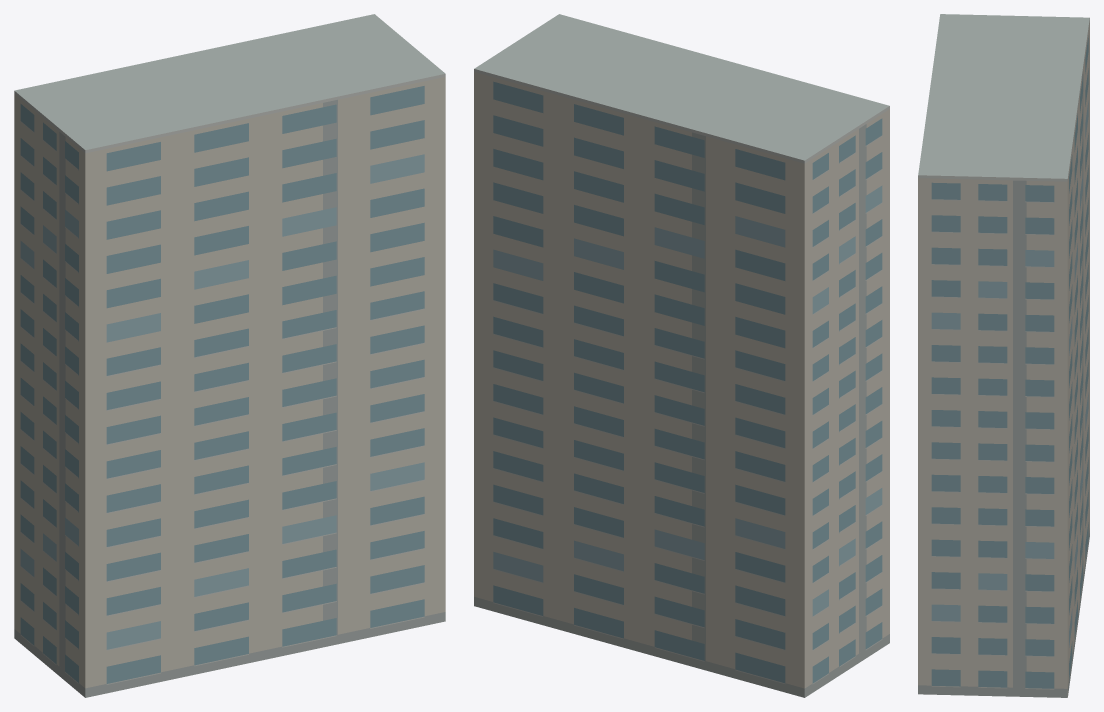
The model's file is residential-43309536-30e6-4561-a018-5ef9f9a79d90.glb.
3 renders of one model, left to right at view 1: azimuth 30°, elevation 25°; view 2: azimuth 150°, elevation 25°; view 3: azimuth 270°, elevation 25°, orthographic. The views are drawn at different scales.
Parts seen in each view (by area): view 1: residential-43309536-30e6-4561-a018-5ef9f9a79d90.tmp; view 2: residential-43309536-30e6-4561-a018-5ef9f9a79d90.tmp; view 3: residential-43309536-30e6-4561-a018-5ef9f9a79d90.tmp.
Boxes of the visible parts, x1,y1,x2,y2 form: residential-43309536-30e6-4561-a018-5ef9f9a79d90.tmp: (14, 14, 445, 697); residential-43309536-30e6-4561-a018-5ef9f9a79d90.tmp: (474, 14, 889, 697); residential-43309536-30e6-4561-a018-5ef9f9a79d90.tmp: (918, 14, 1089, 697).
Bounding box in the file's own units: 29.3 × 43 × 12.9.
